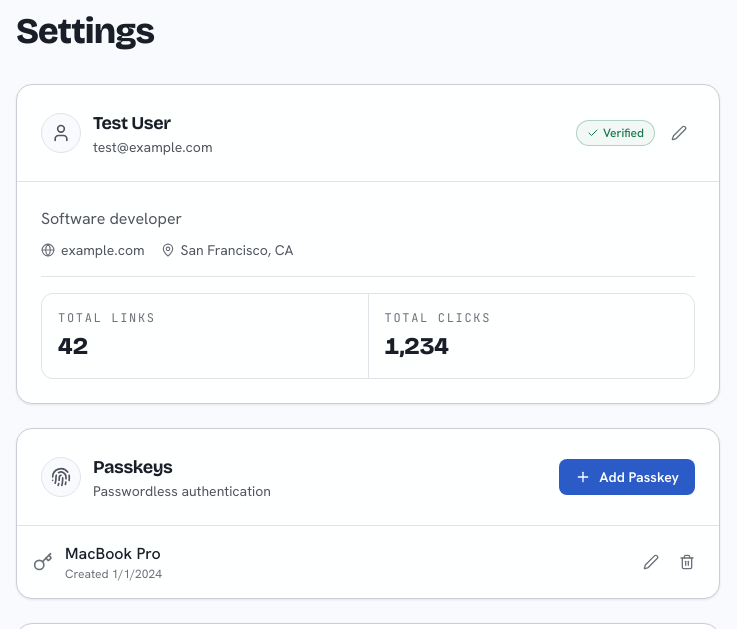
Test: Settings account correctness › Edit profile › shows the server reason when it refuses the profile
The image size is (737, 629).
Click the button named "Edit profile": click(679, 133) [663,117,695,149]
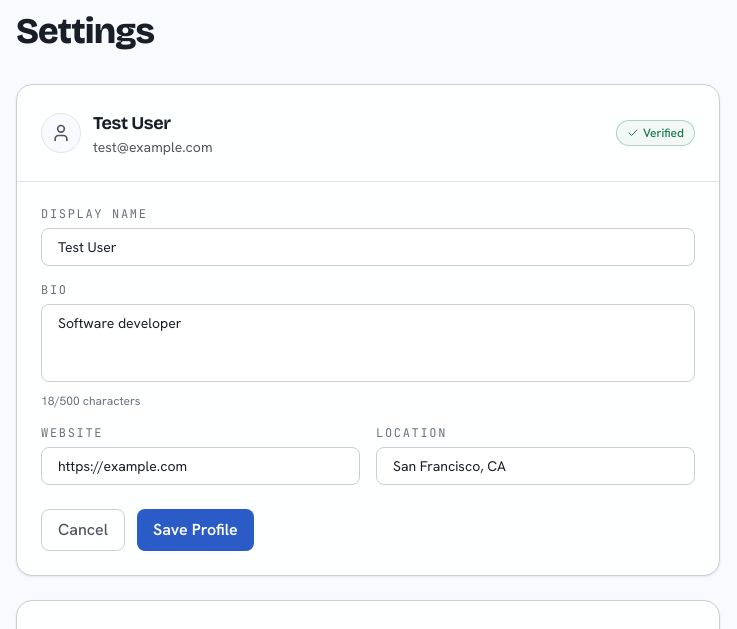
Expected: the field labelled "Display Name" is shown, [41,228,695,266]
Click the button "Save Profile": click(195, 530) [137,509,254,551]
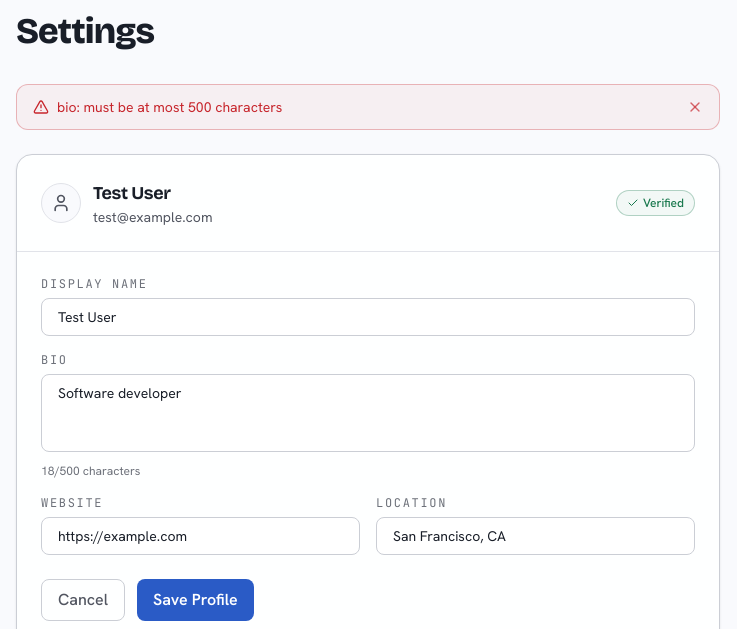
Expected: the message reads "bio: must be at most 500 characters", [57,98,282,116]
